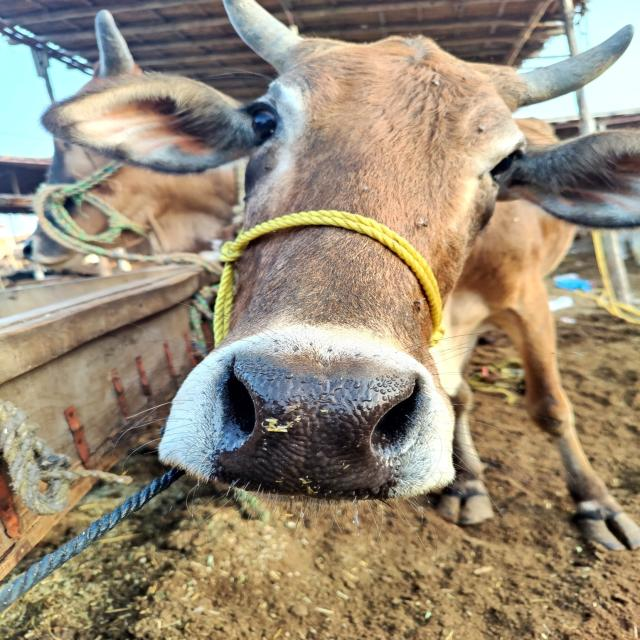muzzles: (204, 338, 428, 498)
